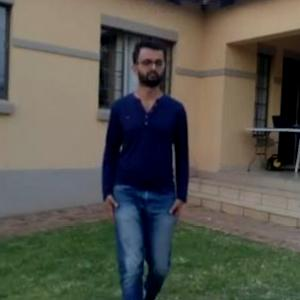follow: (100, 33, 190, 299)
